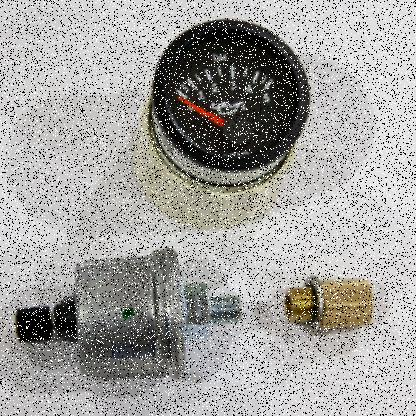needle: (177, 95, 226, 129)
